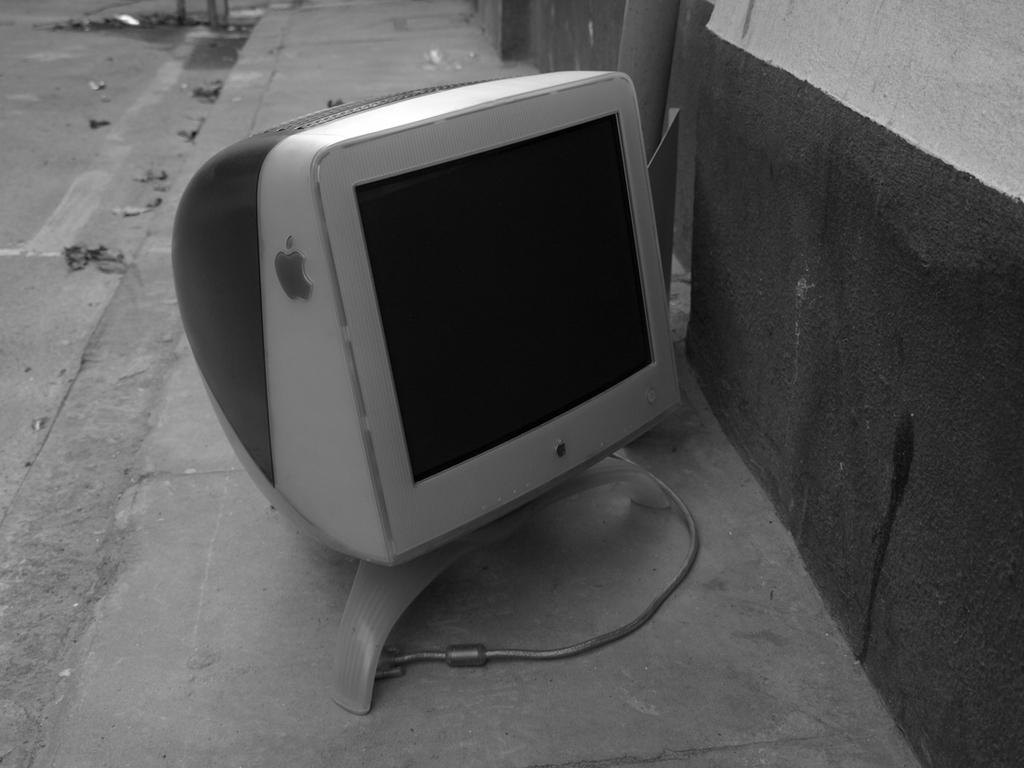Computer-monitor: (170, 83, 686, 573)
